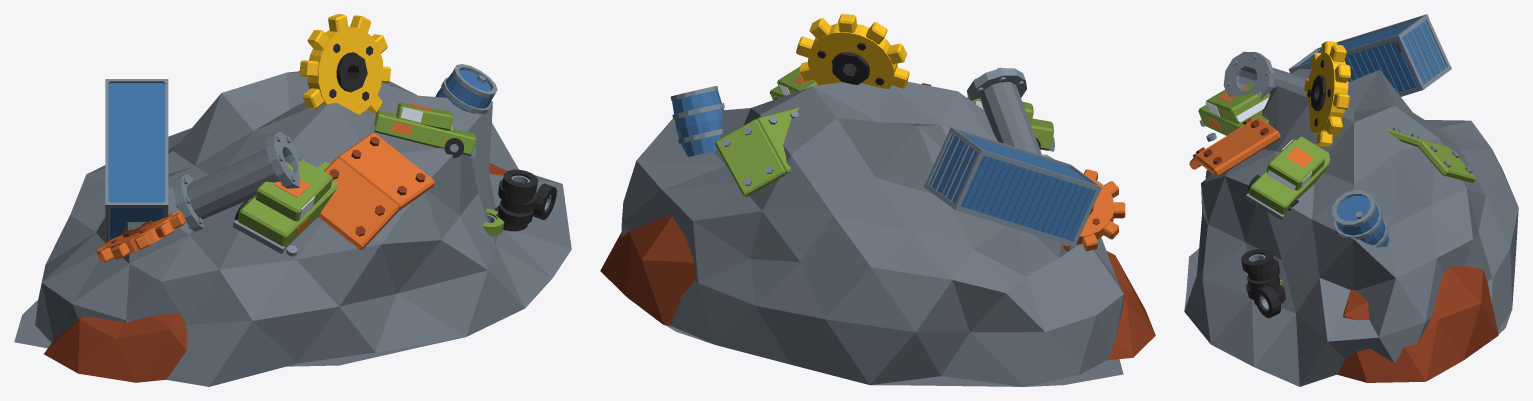
The model's file is bg_scrap_mountain.fbx.
The picture shows the model from 3 angles, left to right: view 1: azimuth 30°, elevation 25°; view 2: azimuth 150°, elevation 25°; view 3: azimuth 270°, elevation 25°; orthographic projection. The views are drawn at different scales.
Parts seen in each view (by area): view 1: c_6E7781_SmoothPlastic, c_E0702E_SmoothPlastic, c_3F72A8_SmoothPlastic, c_8A3B1E_SmoothPlastic, c_7A9E3E_SmoothPlastic, c_7D8B99_SmoothPlastic, c_FFC21A_SmoothPlastic, c_2B2B2E_SmoothPlastic; view 2: c_6E7781_SmoothPlastic, c_3F72A8_SmoothPlastic, c_8A3B1E_SmoothPlastic, c_7D8B99_SmoothPlastic, c_7A9E3E_SmoothPlastic, c_FFC21A_SmoothPlastic, c_E0702E_SmoothPlastic, c_2B2B2E_SmoothPlastic; view 3: c_6E7781_SmoothPlastic, c_8A3B1E_SmoothPlastic, c_7D8B99_SmoothPlastic, c_7A9E3E_SmoothPlastic, c_3F72A8_SmoothPlastic, c_FFC21A_SmoothPlastic, c_E0702E_SmoothPlastic, c_2B2B2E_SmoothPlastic, c_DCE6F0_SmoothPlastic.
Boxes of the visible parts, left/top/right/bottom form: c_6E7781_SmoothPlastic: left=14, top=71, right=571, bottom=386; c_E0702E_SmoothPlastic: left=96, top=103, right=447, bottom=262; c_3F72A8_SmoothPlastic: left=108, top=70, right=492, bottom=239; c_8A3B1E_SmoothPlastic: left=44, top=137, right=507, bottom=382; c_7A9E3E_SmoothPlastic: left=237, top=70, right=504, bottom=248; c_7D8B99_SmoothPlastic: left=105, top=64, right=551, bottom=256; c_FFC21A_SmoothPlastic: left=299, top=14, right=390, bottom=114; c_2B2B2E_SmoothPlastic: left=235, top=43, right=556, bottom=231; c_6E7781_SmoothPlastic: left=621, top=81, right=1123, bottom=386; c_3F72A8_SmoothPlastic: left=672, top=90, right=1095, bottom=241; c_8A3B1E_SmoothPlastic: left=600, top=83, right=1155, bottom=360; c_7D8B99_SmoothPlastic: left=670, top=67, right=1101, bottom=247; c_7A9E3E_SmoothPlastic: left=715, top=66, right=1053, bottom=196; c_FFC21A_SmoothPlastic: left=796, top=14, right=909, bottom=89; c_E0702E_SmoothPlastic: left=793, top=76, right=1125, bottom=251; c_2B2B2E_SmoothPlastic: left=773, top=42, right=1040, bottom=149; c_6E7781_SmoothPlastic: left=1184, top=67, right=1518, bottom=386; c_8A3B1E_SmoothPlastic: left=1192, top=42, right=1498, bottom=382; c_7D8B99_SmoothPlastic: left=1199, top=14, right=1472, bottom=310; c_7A9E3E_SmoothPlastic: left=1198, top=83, right=1475, bottom=285; c_3F72A8_SmoothPlastic: left=1299, top=20, right=1446, bottom=246; c_FFC21A_SmoothPlastic: left=1304, top=41, right=1350, bottom=146; c_E0702E_SmoothPlastic: left=1189, top=87, right=1313, bottom=176; c_2B2B2E_SmoothPlastic: left=1241, top=59, right=1331, bottom=318; c_DCE6F0_SmoothPlastic: left=1205, top=97, right=1311, bottom=190.
Bounding box in the file's own units: 75.98 × 37.82 × 46.52.
